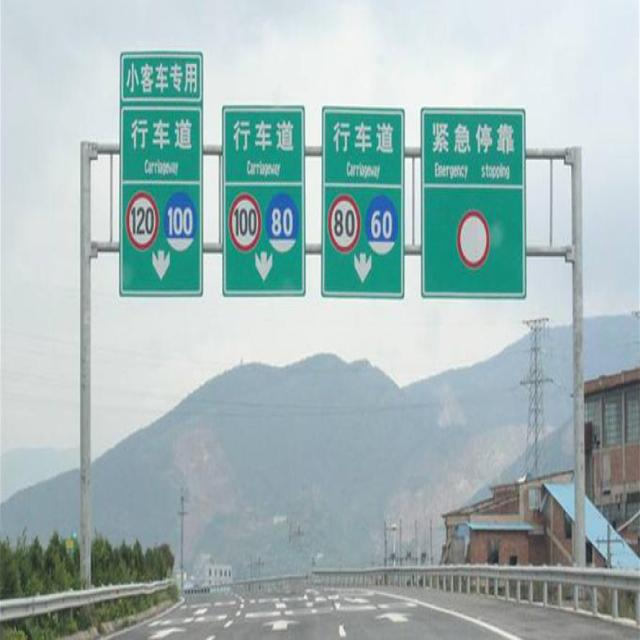speed limit 100: (229, 192, 261, 253), (164, 193, 197, 251)
speed limit 120: (126, 190, 159, 251)
speed limit 60: (366, 197, 398, 256)
speed limit 80: (265, 192, 299, 253), (328, 196, 361, 254)
